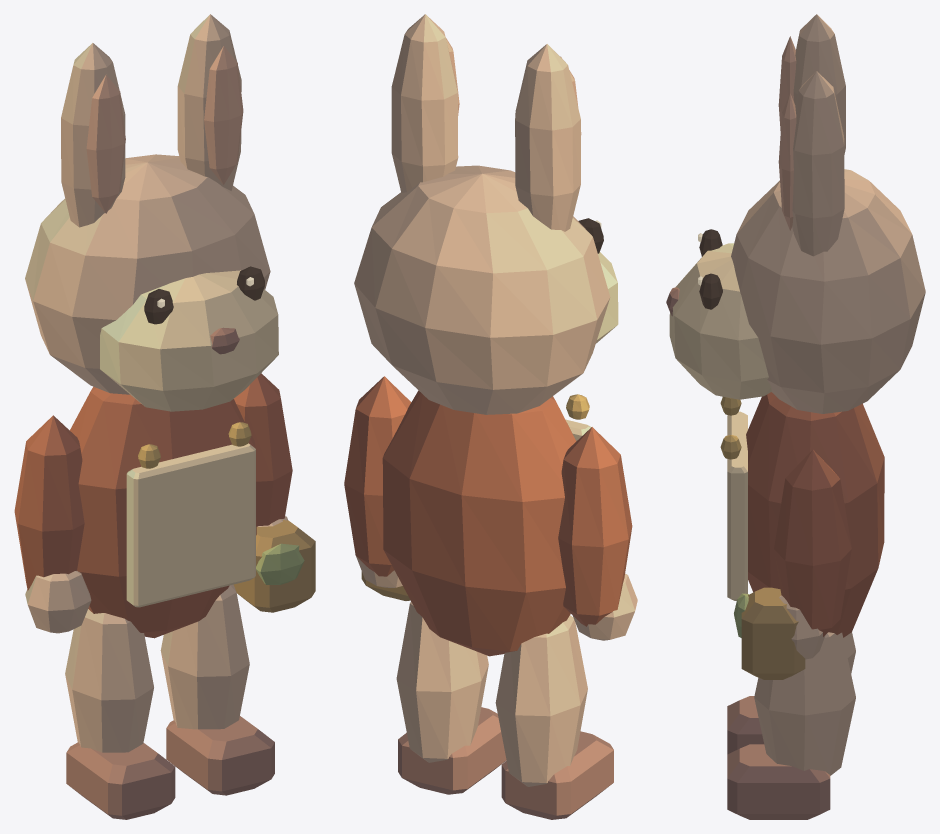
File: npc_lina.glb
3 views of the same model, side by side, from view 1: azimuth 30°, elevation 25°; view 2: azimuth 150°, elevation 25°; view 3: azimuth 270°, elevation 25° (orthographic). The views are drawn at different scales.
Visible parts, largest first — view 1: npc_lina, npc_lina_leg_l, npc_lina_leg_r, npc_lina_arm_l, npc_lina_arm_r; view 2: npc_lina, npc_lina_leg_l, npc_lina_leg_r, npc_lina_arm_l, npc_lina_arm_r; view 3: npc_lina, npc_lina_arm_r, npc_lina_leg_r, npc_lina_leg_l.
Boxes of the visible parts, x1,y1,x2,y2 form: npc_lina: (25,14,278,638); npc_lina_leg_l: (65,609,175,819); npc_lina_leg_r: (160,584,274,795); npc_lina_arm_l: (14,415,91,633); npc_lina_arm_r: (233,373,315,612); npc_lina: (354,14,618,656); npc_lina_leg_l: (495,615,613,819); npc_lina_leg_r: (396,601,506,794); npc_lina_arm_l: (558,427,637,640); npc_lina_arm_r: (344,376,411,600); npc_lina: (666,14,925,637); npc_lina_arm_r: (734,450,851,679); npc_lina_leg_r: (727,632,855,819); npc_lina_leg_l: (727,632,855,754).
Bounding box in the file's own units: 0.646 × 1.7 × 0.5399.
